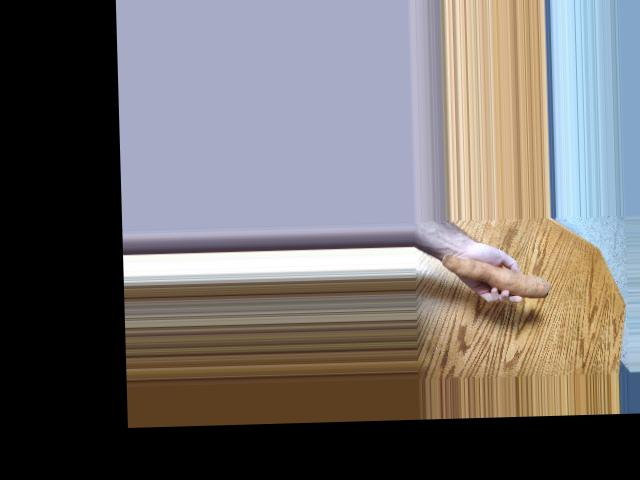sweet_potato: (454, 257, 567, 306)
